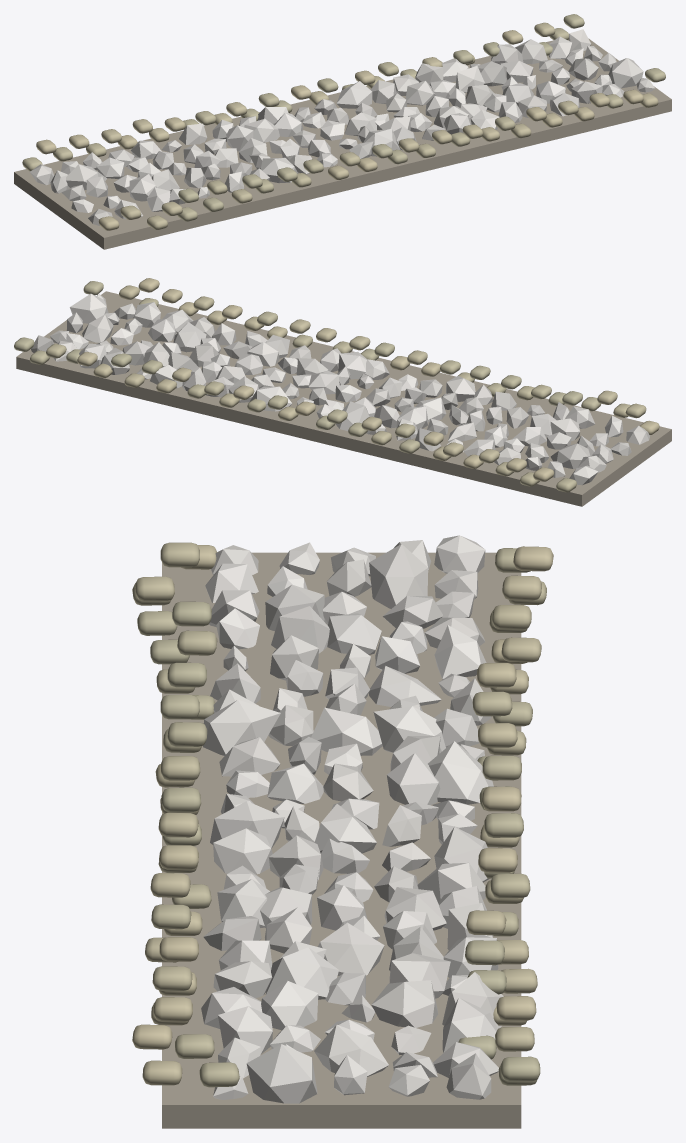
Rendered from coral_path.glb.
The picture shows the model from 3 angles, top to bottom: view 1: azimuth 30°, elevation 25°; view 2: azimuth 150°, elevation 25°; view 3: azimuth 270°, elevation 25°; orthographic projection. The views are drawn at different scales.
Parts seen in each view (by area): view 1: lane_base, coral106, coral64, coral88, coral73, coral43, coral8, coral99, coral11, coral35, coral83, coral55 (+27 smaller); view 2: lane_base, coral106, coral8, coral86, coral102, coral55, coral35, coral49, coral57, coral95, coral71, coral91 (+25 smaller); view 3: lane_base, coral106, coral8, coral35, coral49, coral93, coral37, coral82, coral86, coral102, coral91, coral60 (+102 smaller).
Part boxes in pixels (<box>): lane_base: <box>14,38,671,249</box>; coral106: <box>608,58,643,88</box>; coral64: <box>336,81,372,108</box>; coral88: <box>477,61,507,86</box>; coral73: <box>405,80,434,105</box>; coral43: <box>244,118,279,142</box>; coral8: <box>66,164,106,190</box>; coral99: <box>515,39,547,64</box>; coral11: <box>129,174,156,201</box>; coral35: <box>260,157,297,183</box>; coral83: <box>455,66,484,92</box>; coral55: <box>363,128,400,156</box>; lane_base: <box>16,291,671,506</box>; coral106: <box>69,293,108,323</box>; coral8: <box>550,443,590,469</box>; coral86: <box>173,322,206,352</box>; coral102: <box>82,314,113,342</box>; coral55: <box>338,351,367,379</box>; coral35: <box>446,375,475,401</box>; coral49: <box>336,401,369,430</box>; coral57: <box>308,371,339,394</box>; coral95: <box>133,302,160,327</box>; coral71: <box>247,342,279,366</box>; coral91: <box>148,319,176,341</box>; lane_base: <box>162,552,521,1128</box>; coral106: <box>246,1044,317,1103</box>; coral8: <box>369,544,428,608</box>; coral35: <box>203,700,280,755</box>; coral49: <box>428,741,493,804</box>; coral93: <box>371,980,438,1027</box>; coral37: <box>311,707,382,755</box>; coral82: <box>318,922,384,975</box>; coral86: <box>265,947,338,999</box>; coral102: <box>314,1024,388,1076</box>; coral91: <box>261,981,318,1030</box>; coral60: <box>213,828,272,874</box>.
Size of the model in its own units: 8.07 by 0.5578 by 2.58.
